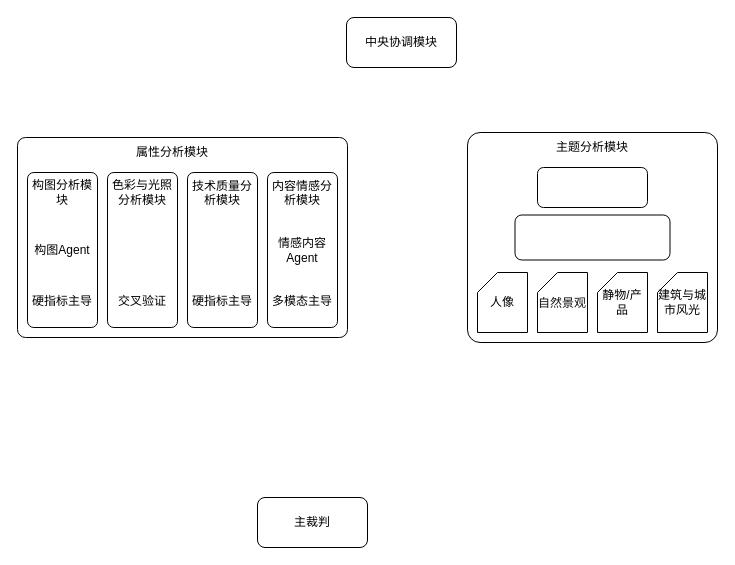
Some shapes in this 735 by 565 pixel diagram are drawn without their labels. Each missing label, with the box of its shape:
属性加权分配: (514, 214, 670, 260)
技术质量Agent: (186, 172, 258, 328)
置信分类: (536, 166, 648, 208)
色彩Agent: (106, 172, 178, 328)
